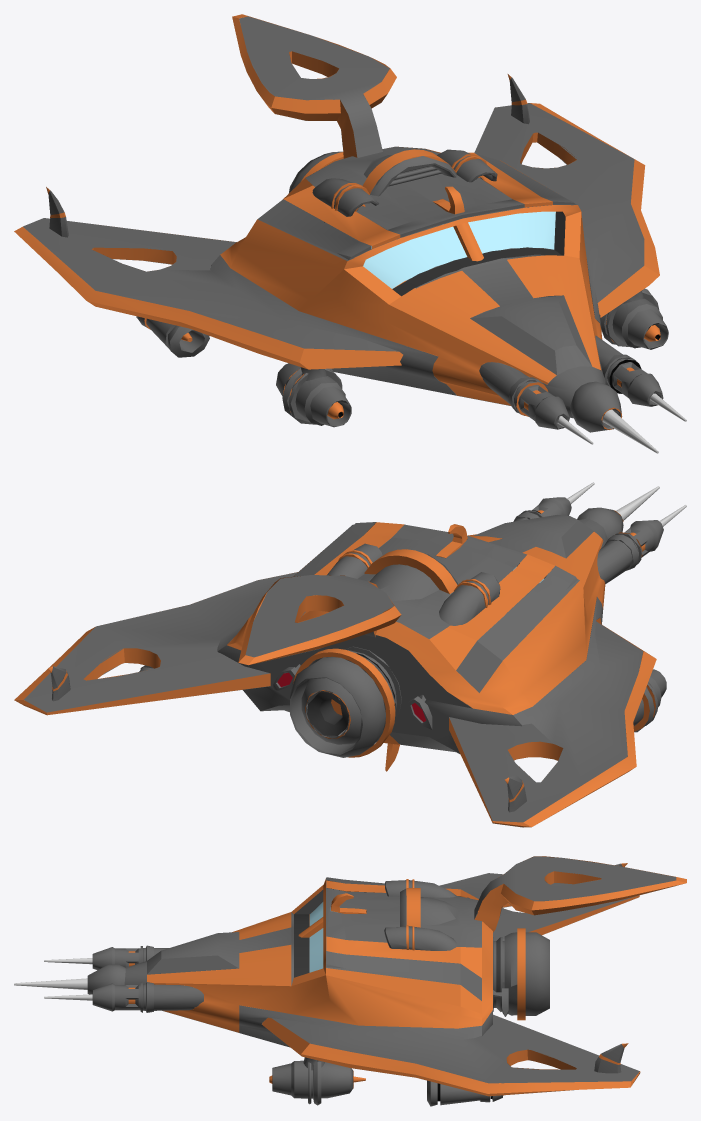
Rendered from spaceship.glb.
3 views of the same model, one above another, from view 1: azimuth 30°, elevation 25°; view 2: azimuth 150°, elevation 25°; view 3: azimuth 270°, elevation 25° (orthographic). The views are drawn at different scales.
Visible parts, largest first — view 1: Cube.003; view 2: Cube.003; view 3: Cube.003.
Part boxes in pixels (x1,y1,x2,y2): Cube.003: [14, 14, 686, 453]; Cube.003: [14, 482, 686, 827]; Cube.003: [14, 856, 686, 1106].
Bounding box in the file's own units: 3.63 × 1.36 × 4.75.
